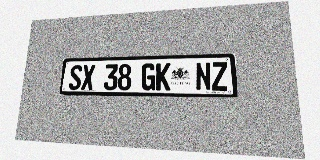3: (104, 64, 118, 90)
8: (117, 64, 132, 90)
G: (141, 63, 156, 90)
K: (156, 63, 171, 90)
N: (195, 62, 211, 91)
S: (68, 65, 83, 90)
X: (81, 64, 95, 90)
Z: (211, 62, 228, 91)
